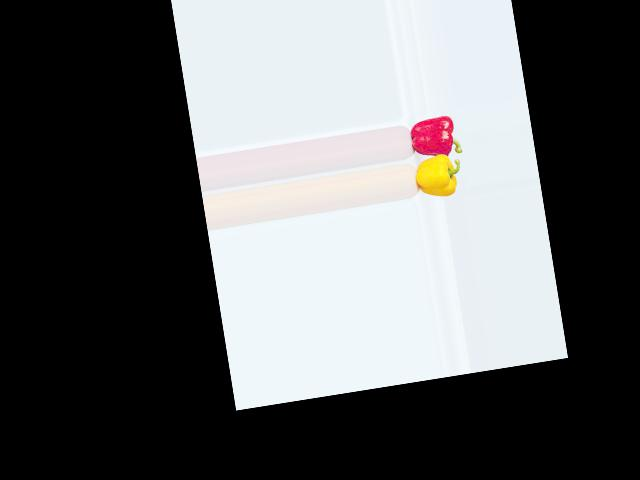bell_pepper: (402, 110, 461, 162)
